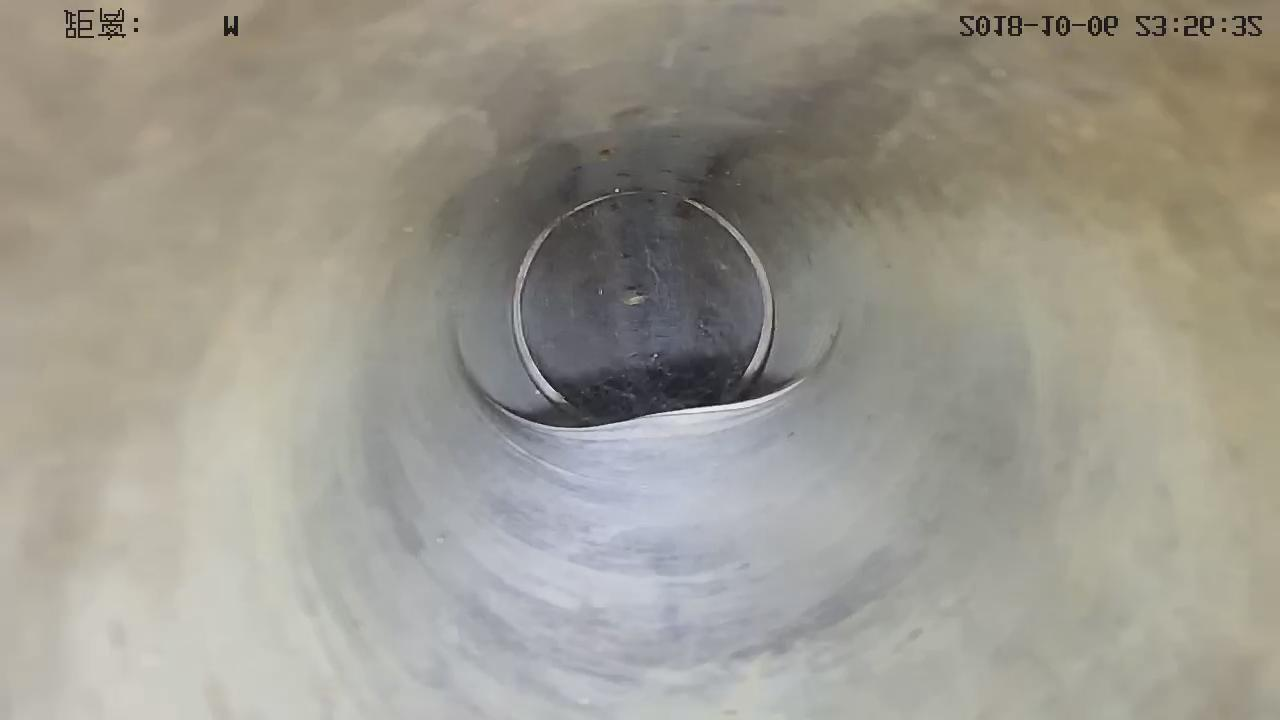BX: (502, 345, 833, 469)
CKTJ: (511, 190, 641, 404), (686, 199, 772, 376)
